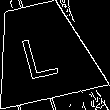L_N: (20, 23, 65, 80)
